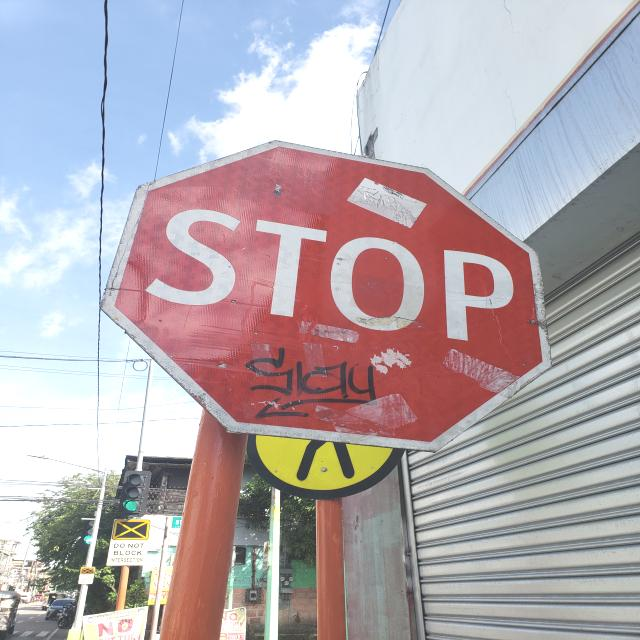stop-sign: (99, 138, 554, 454)
